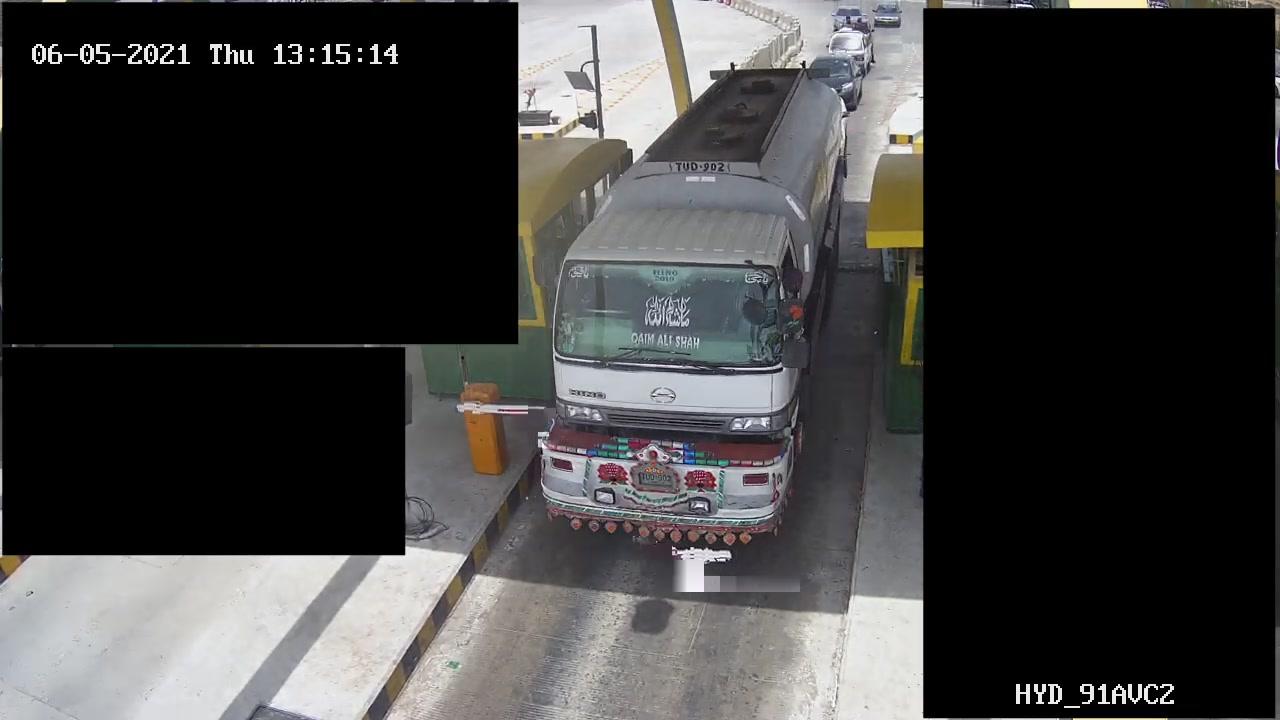F6: (536, 64, 853, 549)
